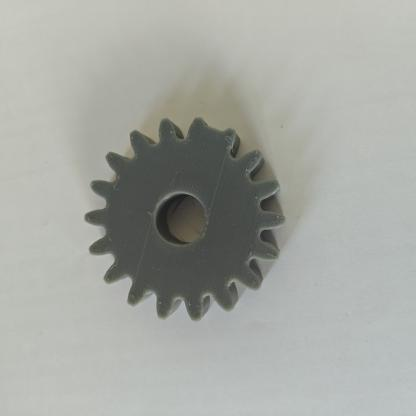defect: (177, 94, 250, 174)
gear: (69, 77, 316, 364)
